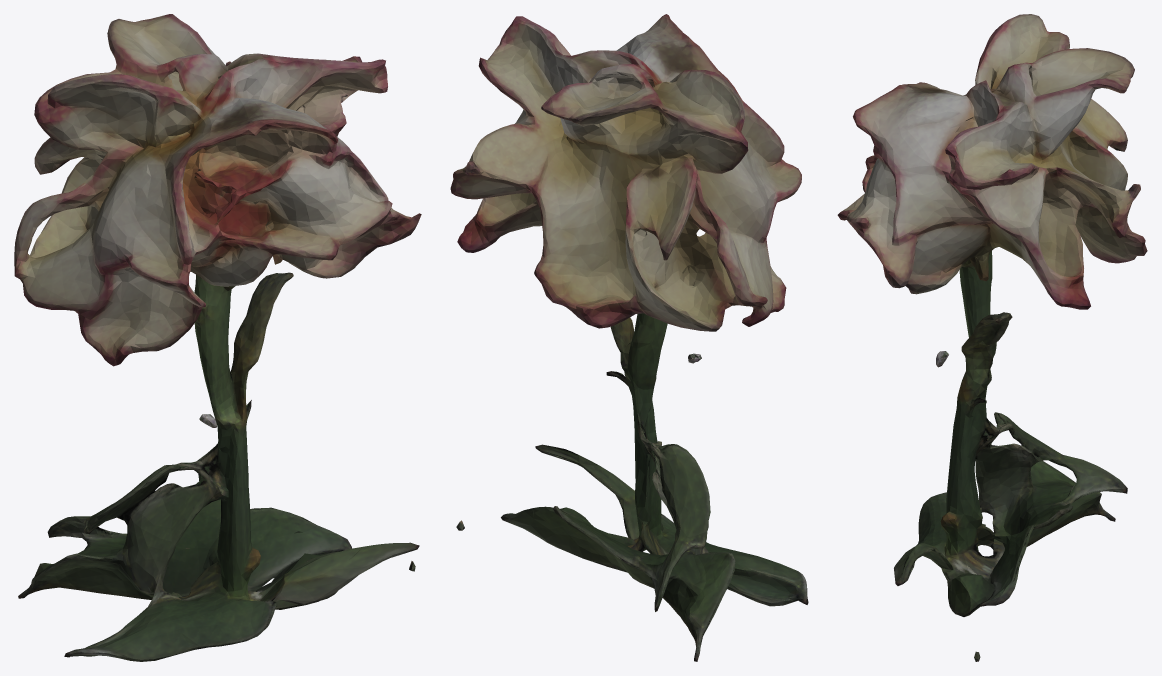
The picture shows the model from 3 angles, left to right: view 1: azimuth 30°, elevation 25°; view 2: azimuth 150°, elevation 25°; view 3: azimuth 270°, elevation 25°; orthographic projection. The views are drawn at different scales.
Visible parts, largest first — view 1: world; view 2: world; view 3: world.
Part boxes in pixels (<box>): world: <box>14,14,421,661</box>; world: <box>450,14,808,661</box>; world: <box>837,14,1147,661</box>.
Size of the model in its own units: 0.6413 by 0.9446 by 0.515.
1 material, 1 textured.
